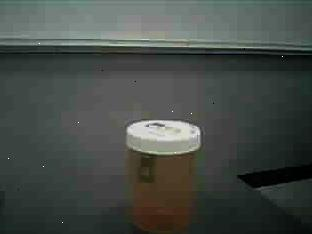Bottle B: (117, 114, 212, 230)
